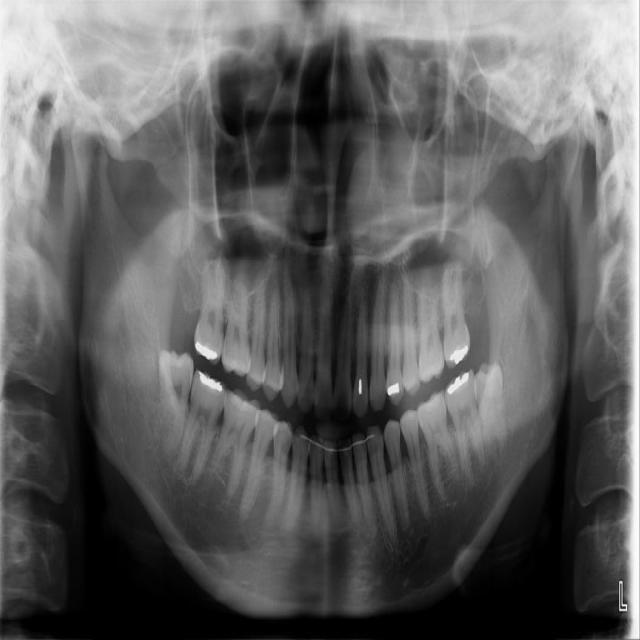Filling: (444, 367, 470, 398), (353, 376, 368, 417), (192, 339, 219, 360), (198, 373, 223, 395), (449, 341, 468, 366), (386, 381, 405, 403)
impacted tooth: (158, 351, 198, 467), (474, 359, 514, 463)
